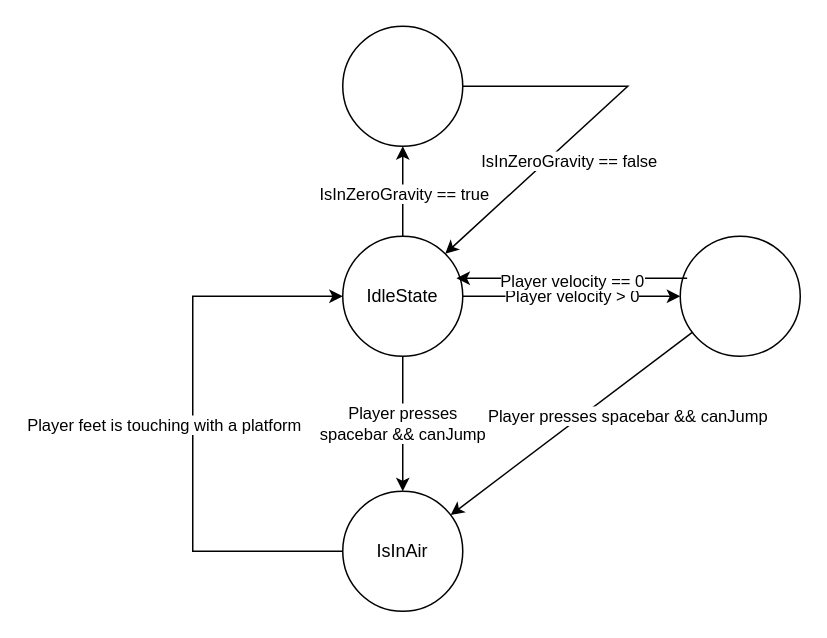
The diagram is 827 pixels wide and 638 high, and some of its shapes have lost their labels. The shapes that lost their labels are listed below. From the top down, each one's centre as x and y in pixels, then its label:
At point (402, 85): "ZeroGState".
At point (739, 295): "MovingState".
